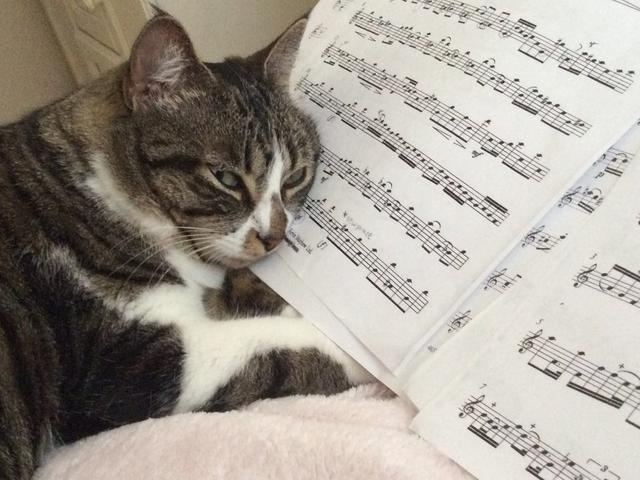playdoh: (1, 11, 384, 480)
